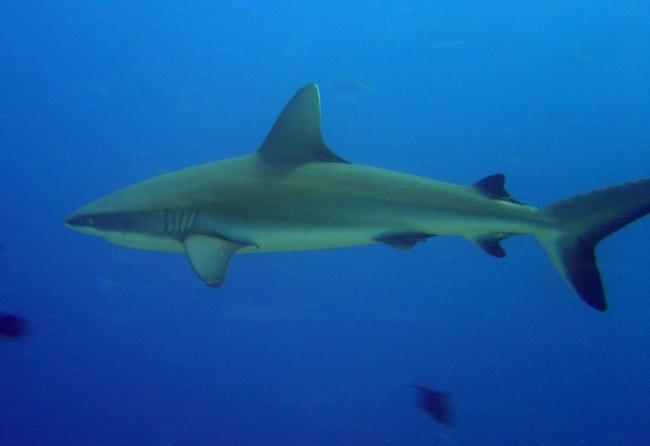fish: (64, 84, 649, 315)
